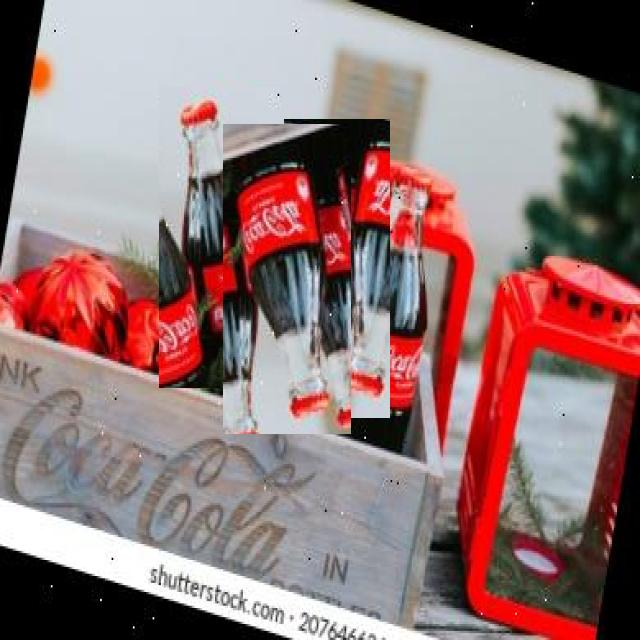coca-cola: (223, 124, 351, 434), (159, 87, 281, 388), (335, 158, 456, 448), (284, 119, 390, 418)
